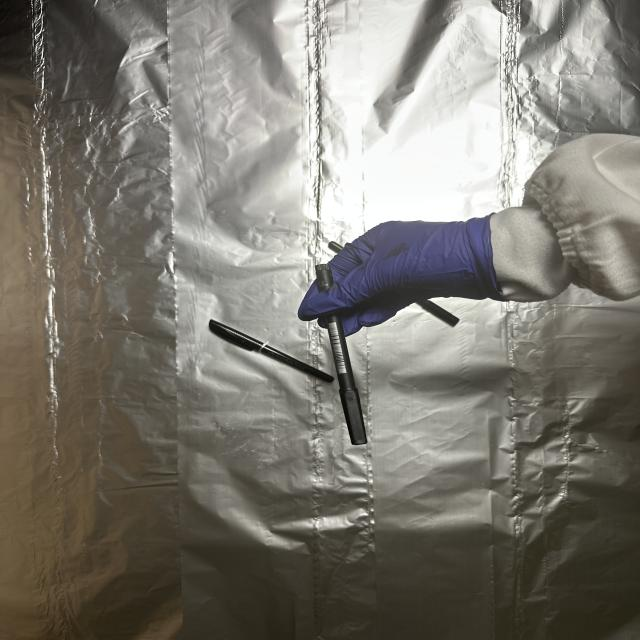gloves_contaminated: (298, 216, 506, 335)
